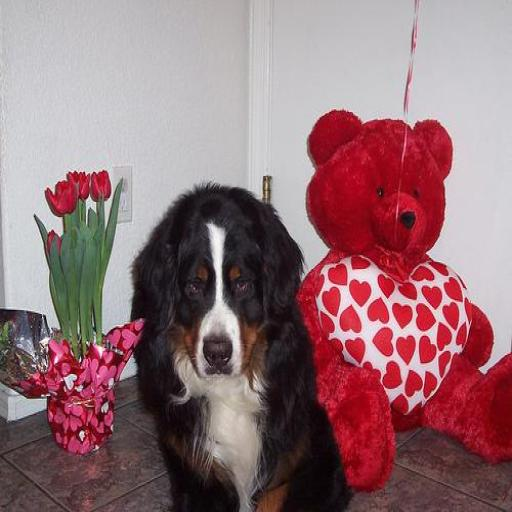dog_face: (136, 189, 295, 374)
